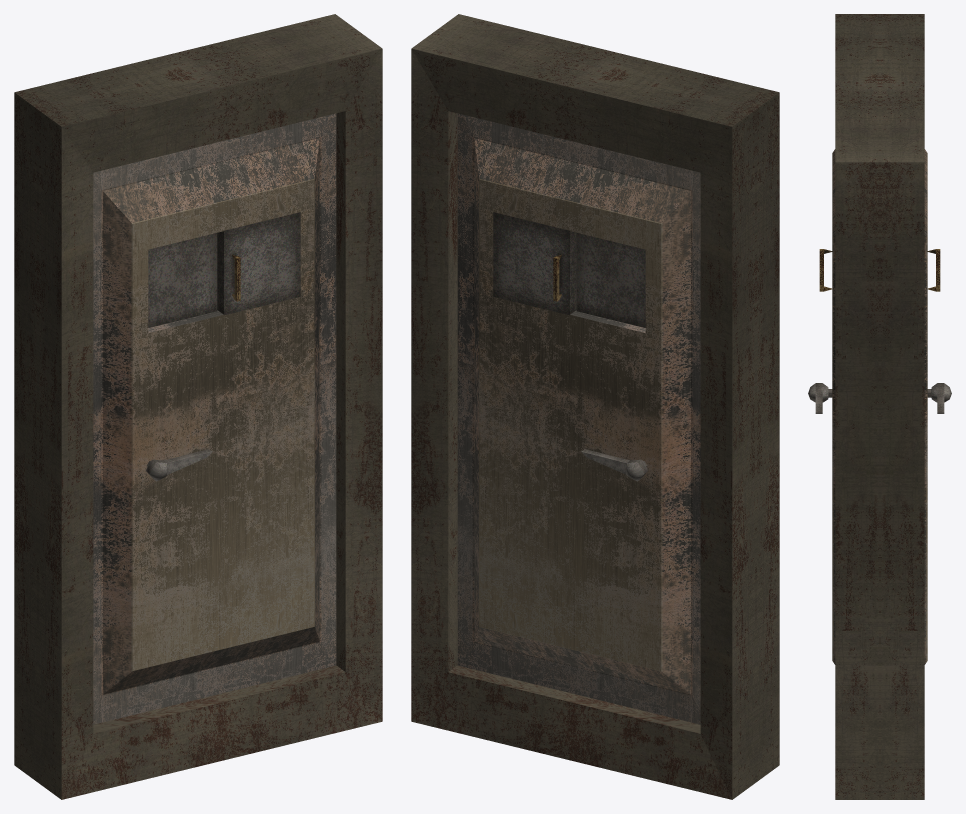
The model's file is Door.fbx.
3 views of the same model, side by side, from view 1: azimuth 30°, elevation 25°; view 2: azimuth 150°, elevation 25°; view 3: azimuth 270°, elevation 25° (orthographic). The views are drawn at different scales.
Parts seen in each view (by area): view 1: polySurface442, polySurface439, polySurface441, polySurface438; view 2: polySurface442, polySurface434, polySurface436, polySurface433; view 3: polySurface442, polySurface433, polySurface438.
Boxes of the visible parts, bbox=[...] form: polySurface442: bbox=[14, 14, 382, 799]; polySurface439: bbox=[217, 212, 300, 315]; polySurface441: bbox=[148, 233, 217, 327]; polySurface438: bbox=[146, 449, 212, 481]; polySurface442: bbox=[411, 14, 779, 799]; polySurface434: bbox=[493, 212, 576, 315]; polySurface436: bbox=[576, 233, 645, 327]; polySurface433: bbox=[581, 449, 647, 481]; polySurface442: bbox=[832, 14, 927, 799]; polySurface433: bbox=[927, 383, 951, 413]; polySurface438: bbox=[808, 383, 832, 413].
Bounding box in the file's own units: 6.92 × 13.86 × 2.83.
